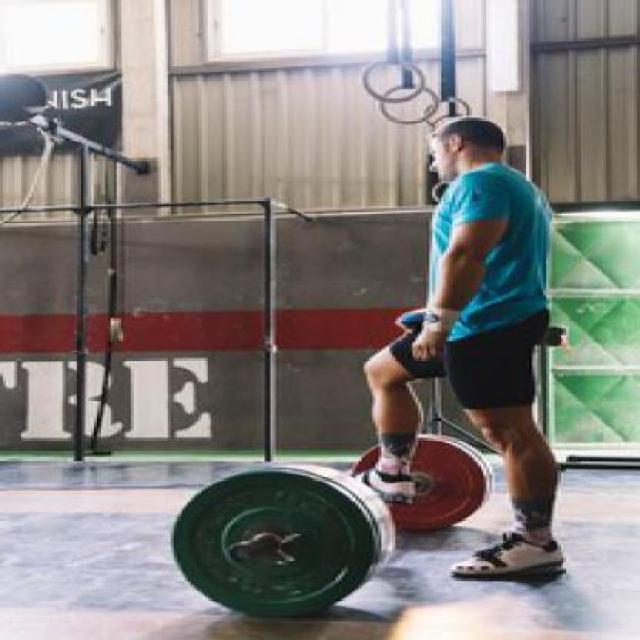barbell: (158, 460, 402, 627)
